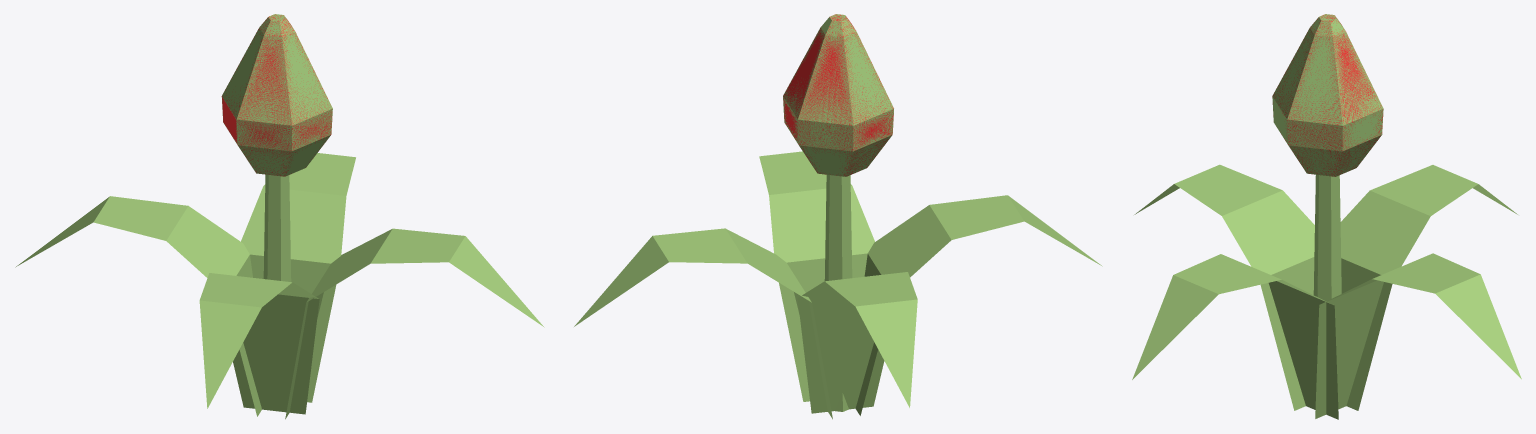
Rendered from Vegetation_Flower_Tulip_02.fbx.
The picture shows the model from 3 angles, left to right: view 1: azimuth 30°, elevation 25°; view 2: azimuth 150°, elevation 25°; view 3: azimuth 270°, elevation 25°; orthographic projection.
Parts seen in each view (by area): view 1: Vegetation_Flower_Tulip_02; view 2: Vegetation_Flower_Tulip_02; view 3: Vegetation_Flower_Tulip_02.
Part boxes in pixels (x1,y1,x2,y2): Vegetation_Flower_Tulip_02: (15, 14, 544, 419); Vegetation_Flower_Tulip_02: (574, 14, 1102, 419); Vegetation_Flower_Tulip_02: (1132, 14, 1521, 419).
Bounding box in the file's own units: 518 × 569 × 519.
